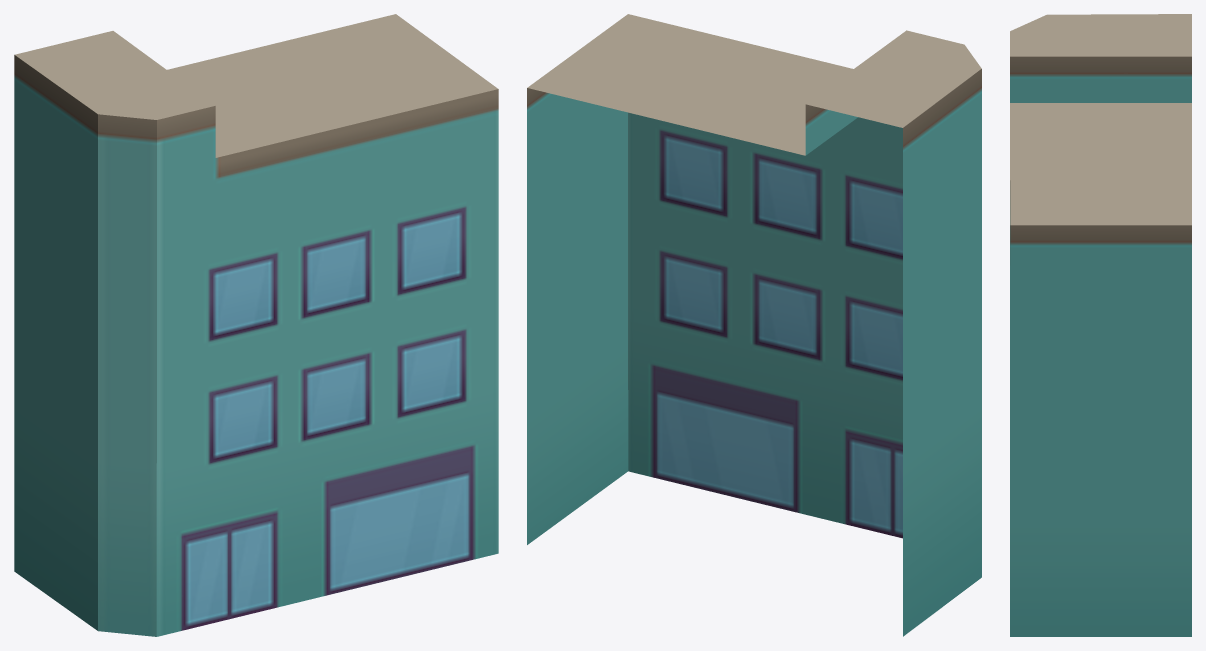
File: Common_Building_02.fbx
3 renders of one model, left to right at view 1: azimuth 30°, elevation 25°; view 2: azimuth 150°, elevation 25°; view 3: azimuth 270°, elevation 25°, orthographic. The views are drawn at different scales.
Parts seen in each view (by area): view 1: Common_Building_02; view 2: Common_Building_02; view 3: Common_Building_02.
Boxes of the visible parts, bbox=[...] form: Common_Building_02: bbox=[14, 14, 498, 636]; Common_Building_02: bbox=[527, 14, 981, 636]; Common_Building_02: bbox=[1010, 14, 1191, 636].
Size of the model in its own units: 1545 by 2000 by 719.
